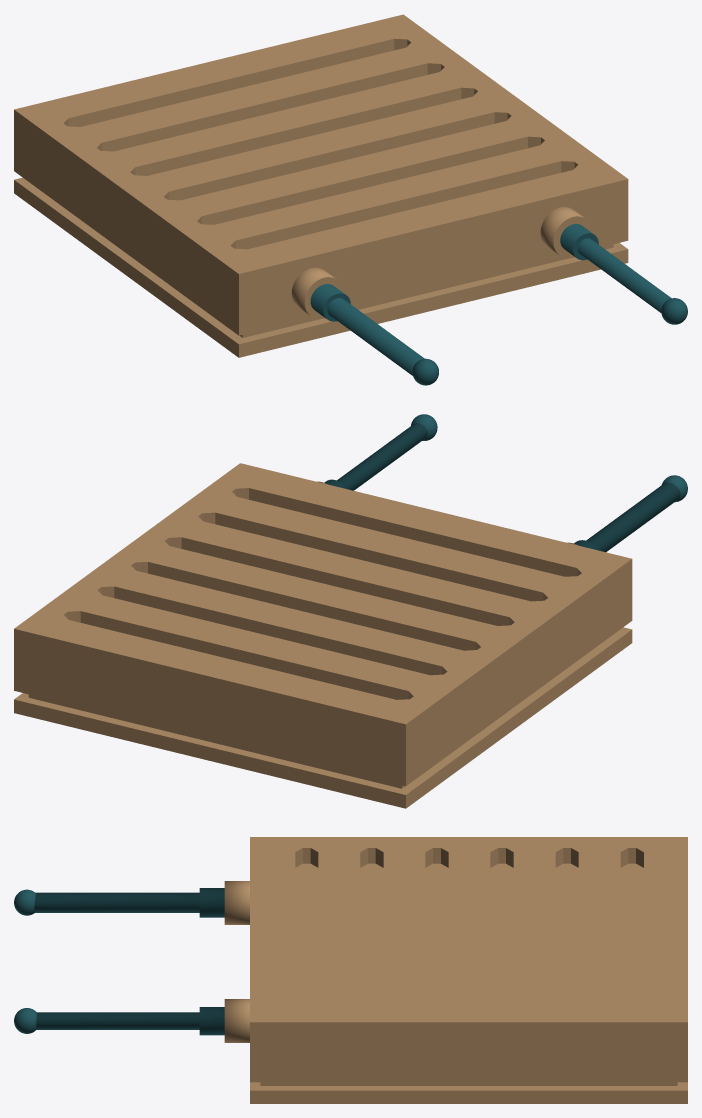
The model's file is router_tier2.fbx.
3 renders of one model, top to bottom at view 1: azimuth 30°, elevation 25°; view 2: azimuth 150°, elevation 25°; view 3: azimuth 270°, elevation 25°, orthographic. The views are drawn at different scales.
Parts seen in each view (by area): view 1: Sphere.001; view 2: Sphere.001; view 3: Sphere.001.
Part boxes in pixels (x1=…): Sphere.001: x1=14, y1=14, x2=687, y2=385; Sphere.001: x1=14, y1=414, x2=687, y2=808; Sphere.001: x1=14, y1=837, x2=687, y2=1103.
Size of the model in its own units: 0.3945 by 0.0811 by 0.6071.
